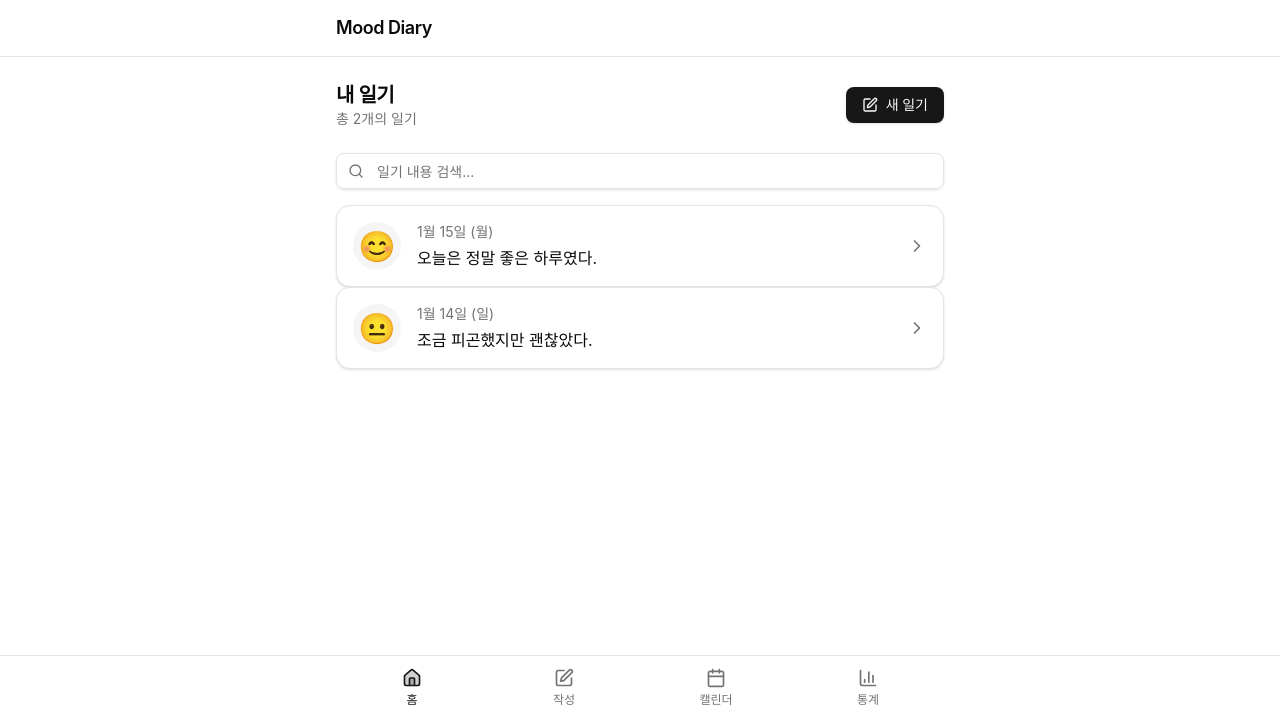
HomePage (TC-005) › TC-009: 일기 검색 › TC-009-3: 검색 결과가 없으면 안내 메시지가 표시된다
The image size is (1280, 720).
Type "존재하지않는키워드" into the field with placeholder "일기 내용 검색..." at [640, 171], box left=336, top=153, right=944, bottom=189
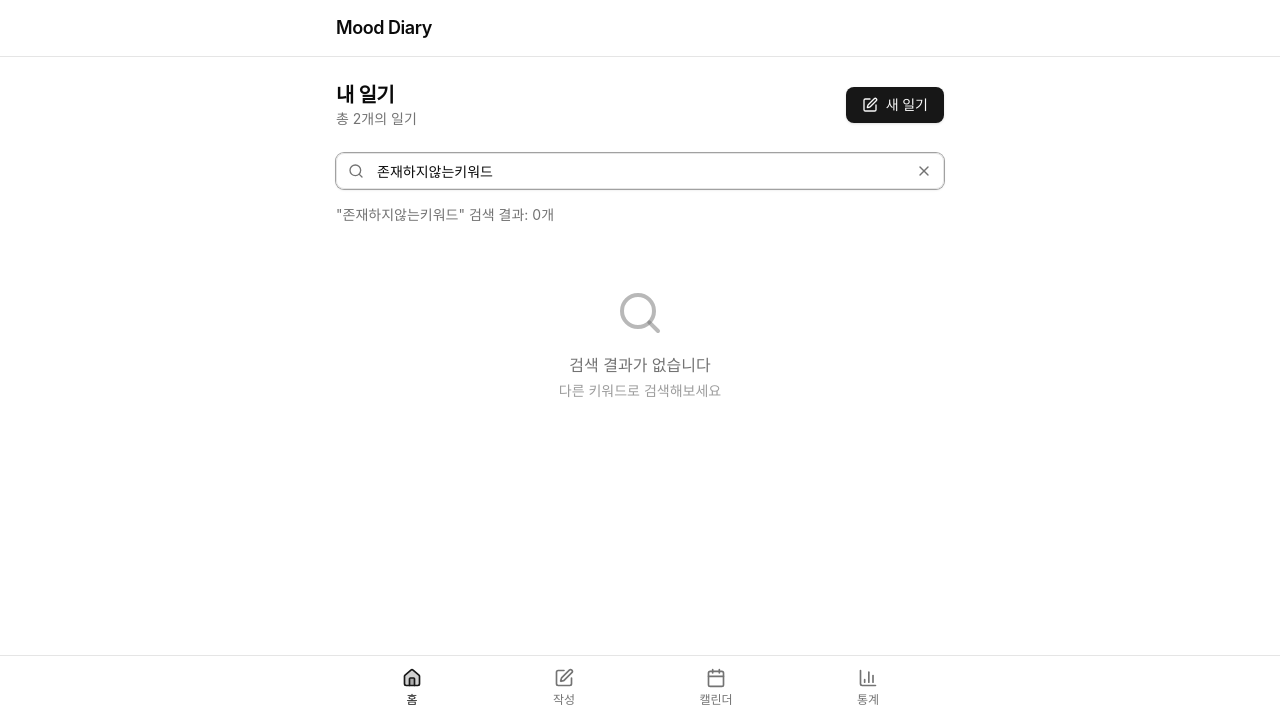
Check: the text "검색 결과가 없습니다" is shown, box left=569, top=353, right=711, bottom=377
